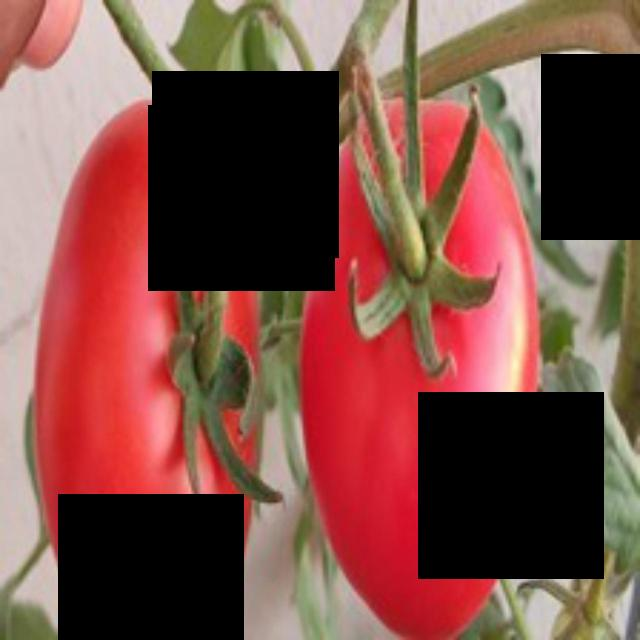tomato: (37, 83, 291, 637), (308, 91, 560, 637)
